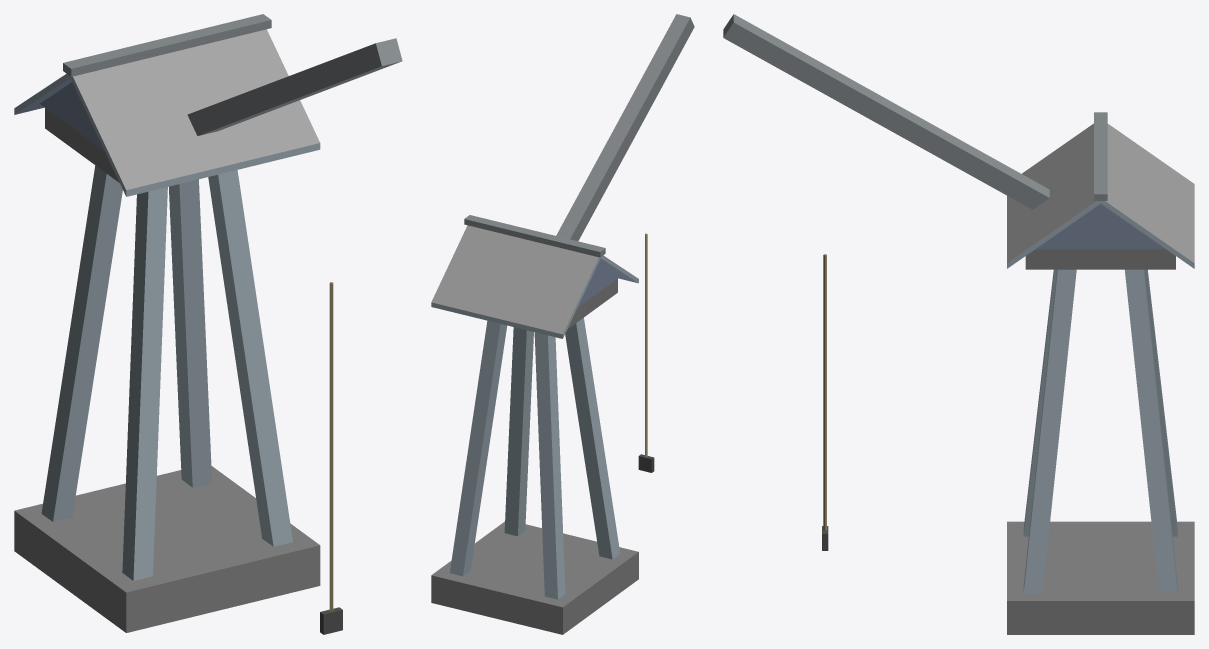
The model's file is crane.glb.
The picture shows the model from 3 angles, left to right: view 1: azimuth 30°, elevation 25°; view 2: azimuth 150°, elevation 25°; view 3: azimuth 270°, elevation 25°; orthographic projection. The views are drawn at different scales.
Parts seen in each view (by area): view 1: crane; view 2: crane; view 3: crane.
Boxes of the visible parts, x1,y1,x2,y2 form: crane: [14, 14, 402, 634]; crane: [431, 14, 694, 634]; crane: [723, 14, 1194, 634].
Bounding box in the file's own units: 3.1 × 10.17 × 7.53.
